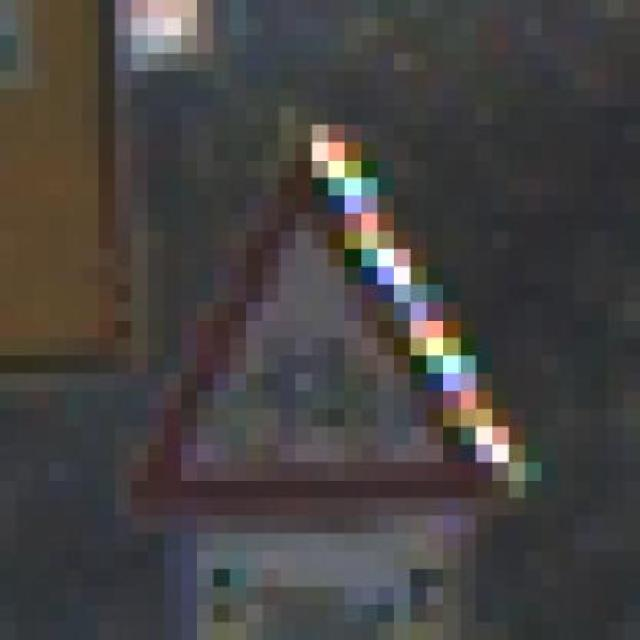CYCLE ROUTE AHEAD WARNING: (81, 89, 558, 533)
